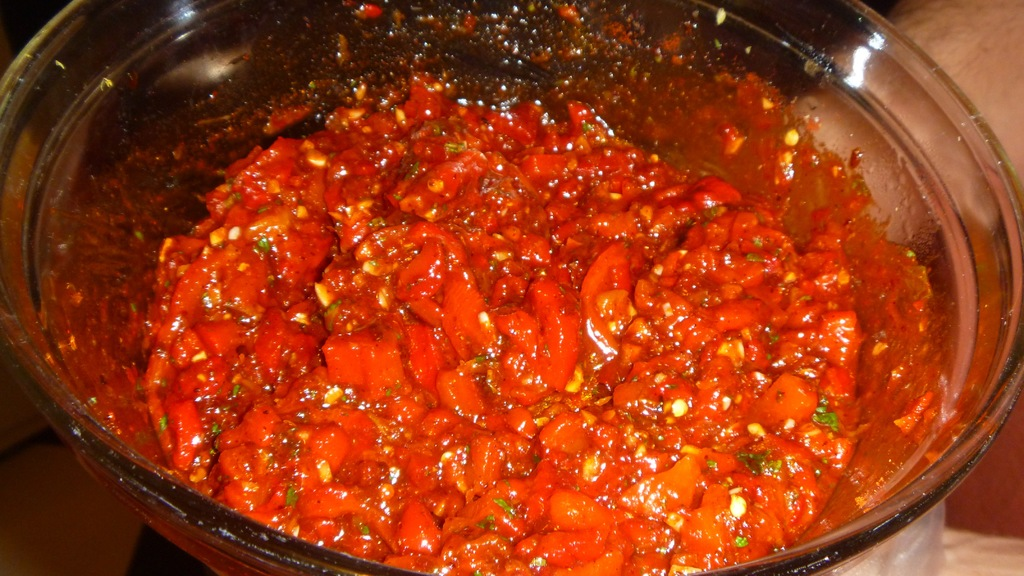Tomato: (141, 79, 850, 575)
